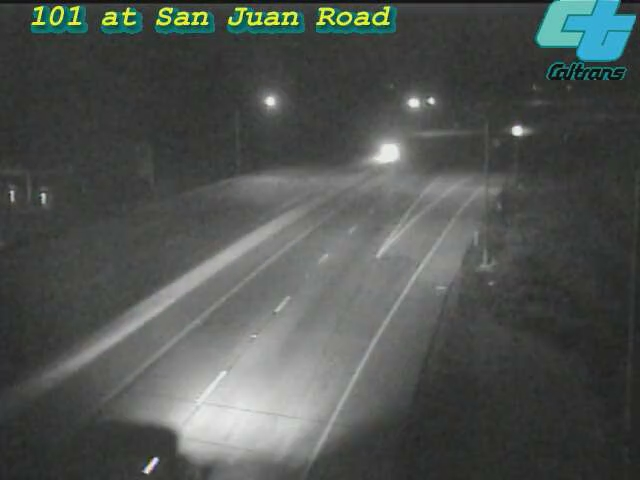vehicle: (63, 407, 173, 480), (360, 127, 410, 177), (494, 104, 544, 154)
